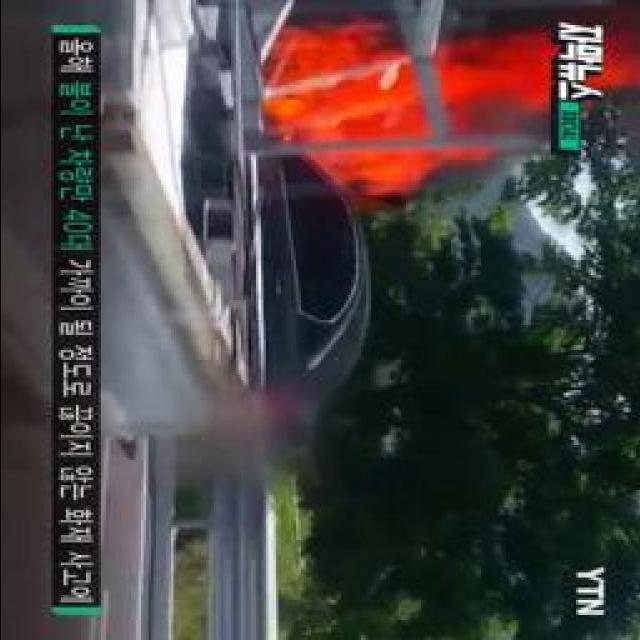Fire: (248, 30, 558, 190)
